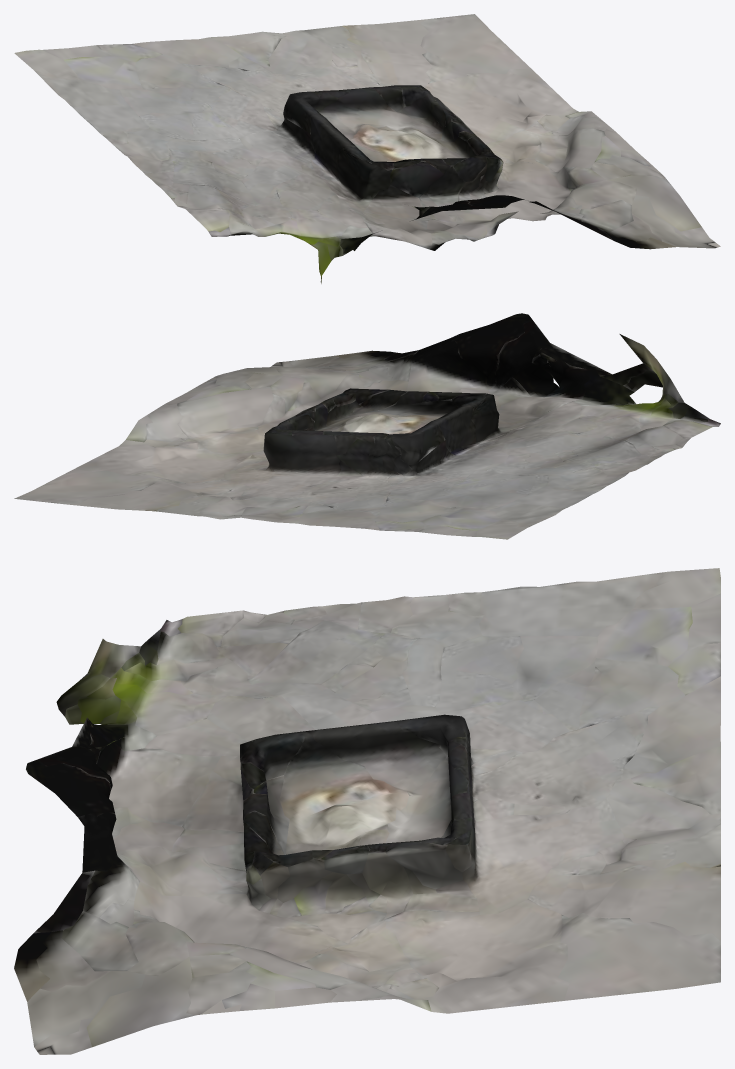
Rendered from hall.glb.
3 views of the same model, one above another, from view 1: azimuth 30°, elevation 25°; view 2: azimuth 150°, elevation 25°; view 3: azimuth 270°, elevation 25° (orthographic). The views are drawn at different scales.
Bounding box in the file's own units: 2.32 × 0.6151 × 2.22.
1 material, 1 textured.
